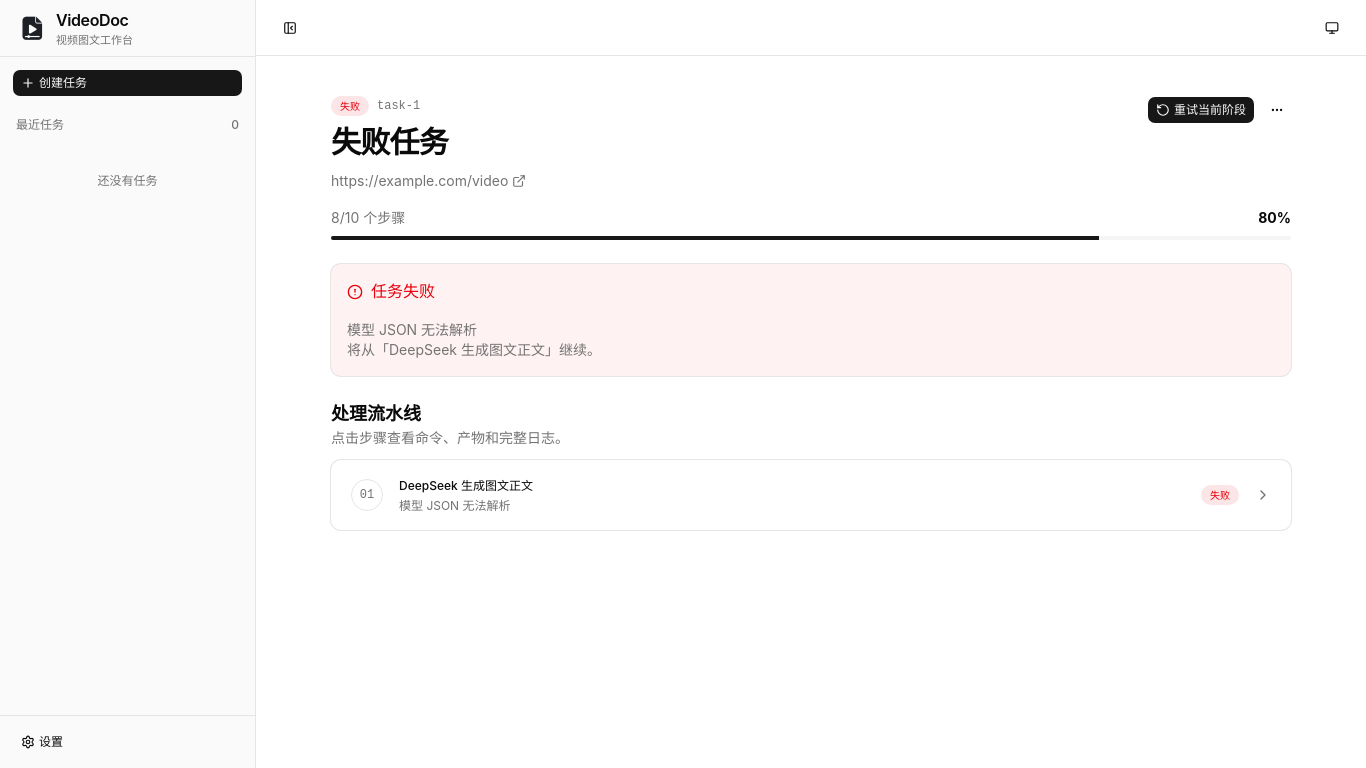
Test: VideoDoc app › resumes a failed task from its current stage
Expected: the text "模型 JSON 无法解析 将从「DeepSeek 生成图文正文」继续。" is shown, [347,321,601,358]
Click the button "重试当前阶段": x=1201, y=110 [1147,96,1255,124]
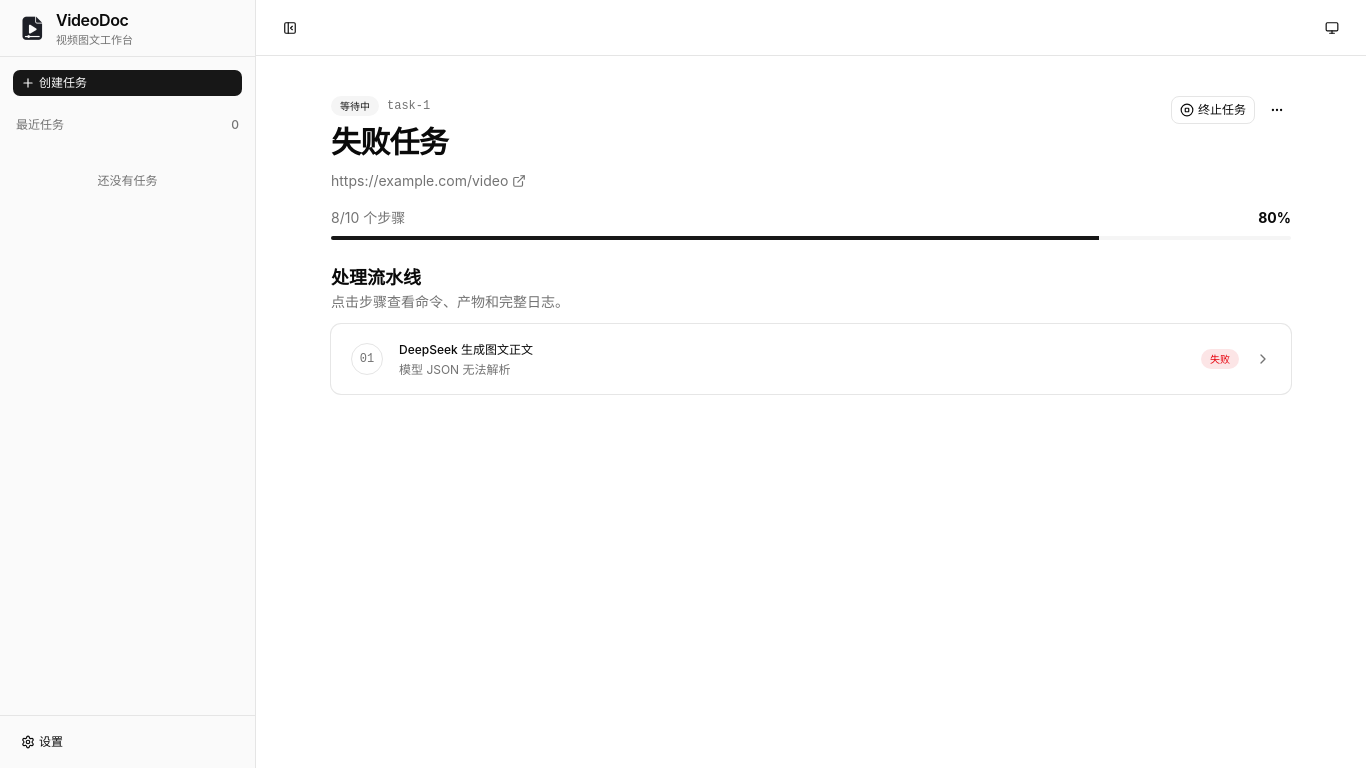
Result: the icon "等待中" is shown at [331,96,379,116]
